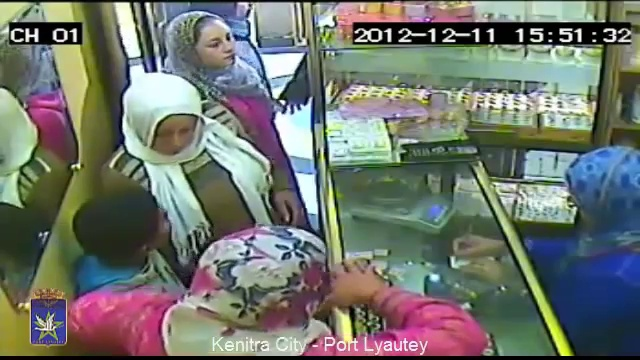face: (192, 19, 239, 68), (147, 116, 197, 157)
